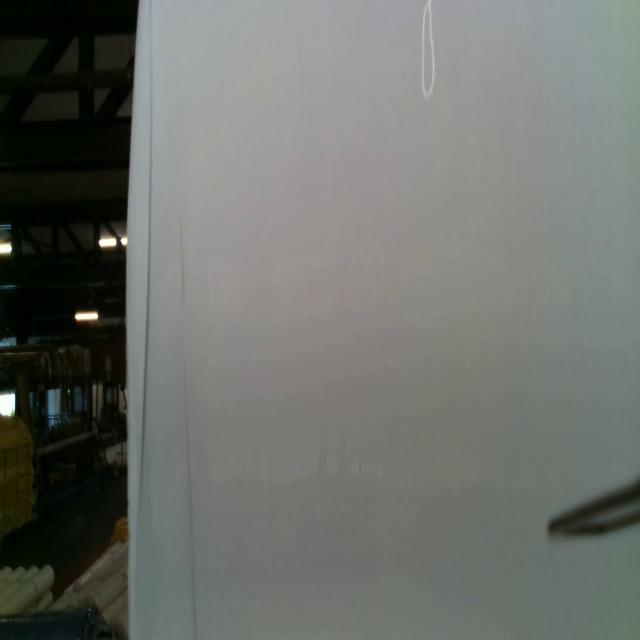crease: (178, 220, 198, 640)
